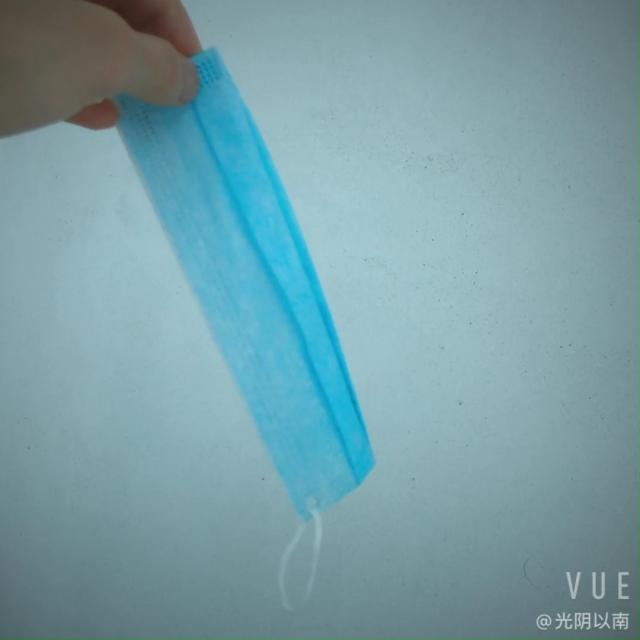face mask: (150, 33, 368, 570)
